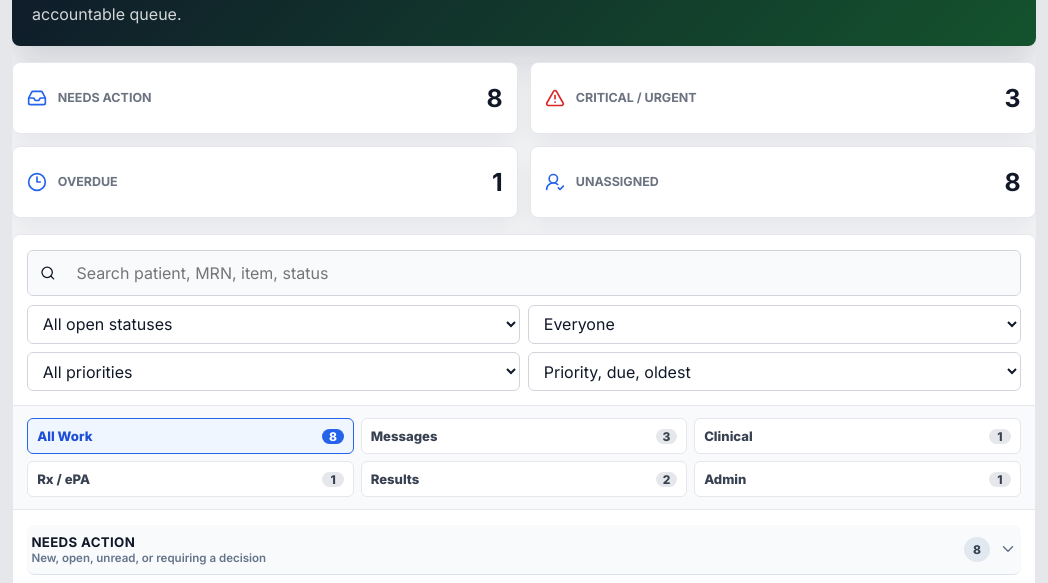
Test case: ClinicalInboxPage › keeps the detail panel aligned with queue and priority filters
Click the button "Rx / ePA 1" at (64, 479), box [27,461,354,497]
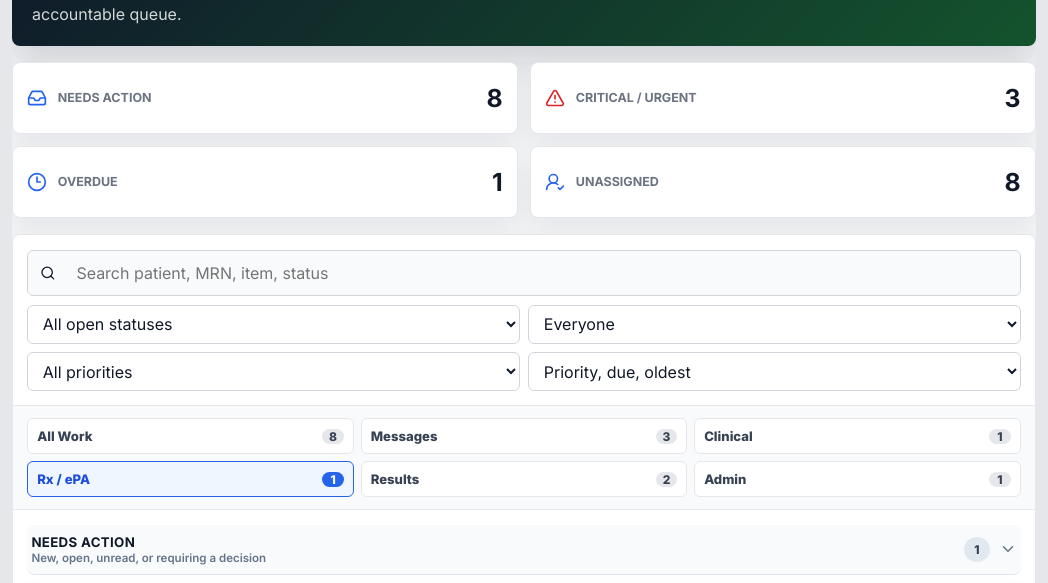
Select "Critical" in the dropdown named "Filter by priority" at (274, 372), box [27,352,520,391]
(page scrolled)
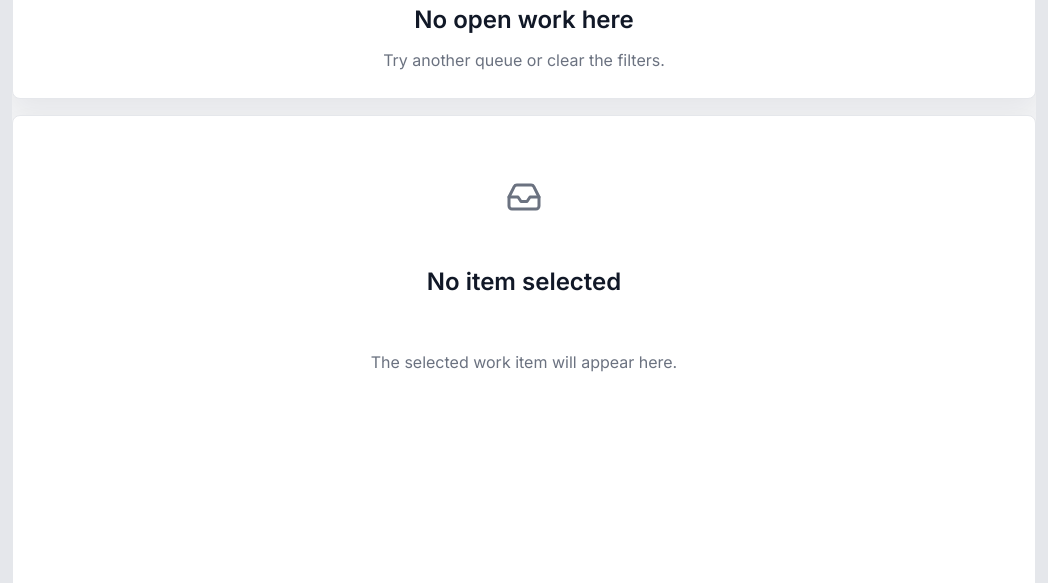
Check: the heading "No open work here" is shown, box [414,6,634,35]
Check: the heading "No item selected" is shown, box [427,268,621,297]
